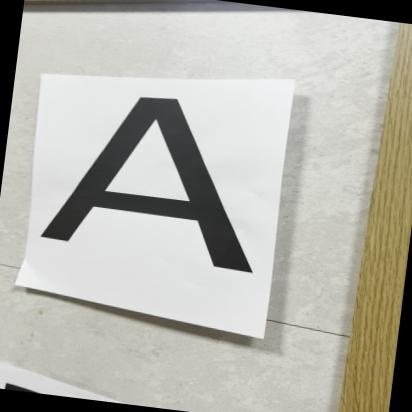seat: (34, 81, 281, 283)
